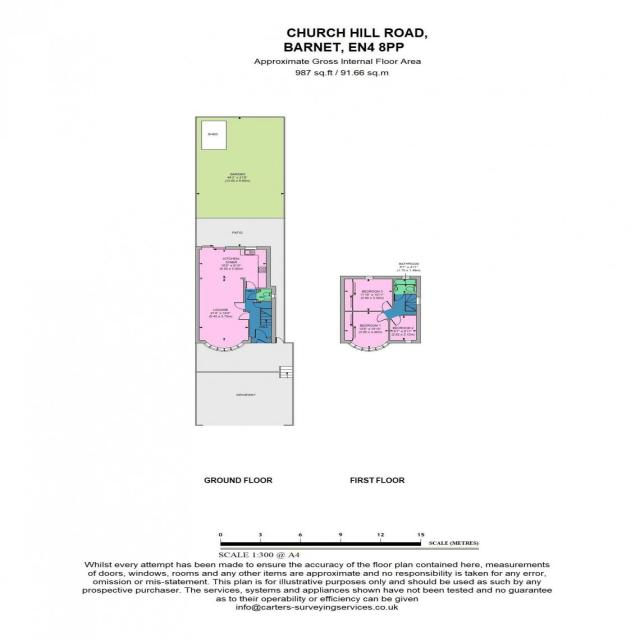DOOR: (390, 315, 402, 327), (381, 300, 393, 312), (376, 312, 388, 323), (254, 329, 267, 338), (238, 312, 250, 320), (394, 293, 405, 301), (234, 302, 245, 310), (246, 281, 256, 289)
ROOM: (195, 246, 271, 352), (340, 311, 391, 352), (340, 276, 394, 312), (388, 314, 421, 343)
WINDOW: (203, 341, 245, 352), (348, 342, 390, 352), (244, 246, 258, 250), (416, 297, 421, 305), (401, 275, 411, 279), (364, 276, 374, 279), (404, 340, 413, 343)
